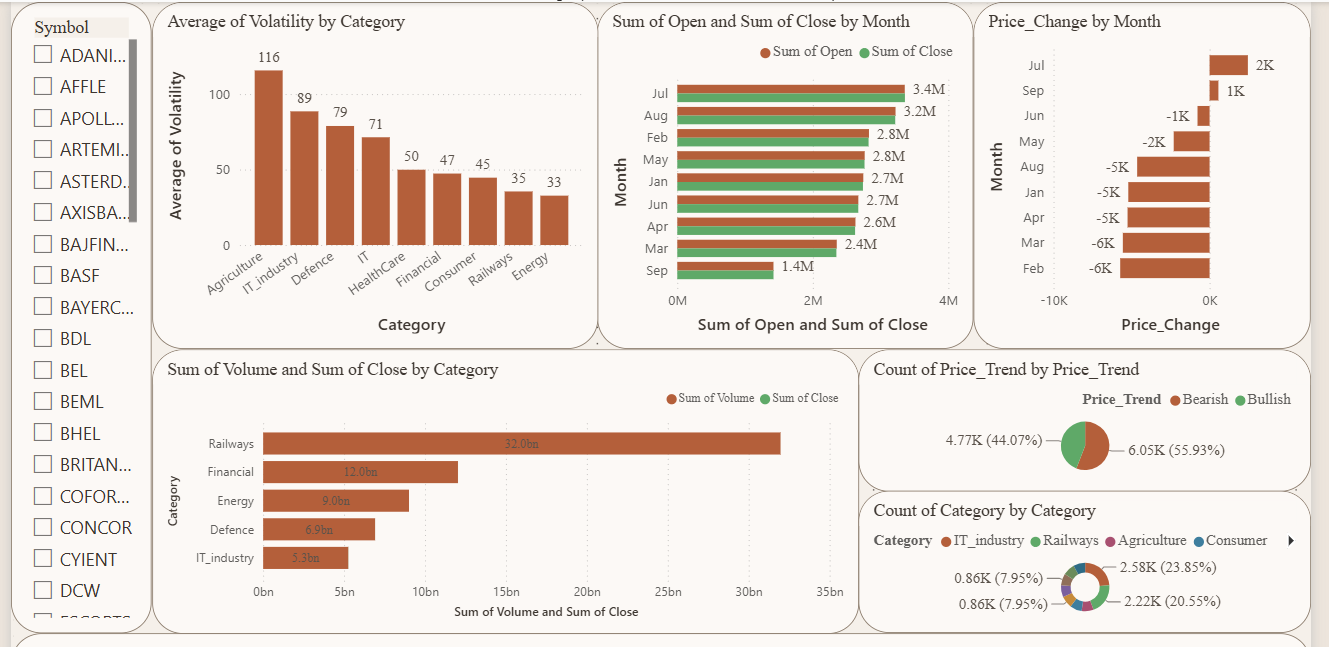

Layout of this report page (visuals, bound fields, positions):
{"tool":"powerbi","page":{"name":"Page 4","canvas":[1280,720],"ordinal":3},"visuals":[{"type":"barChart","fields":{"Category":["Stockslive.Category"],"Y":["Sum(Stockslive.Volume)","Sum(Stockslive.Close)"]},"box":[138.6,341.7,695.7,279.9],"z":0},{"type":"clusteredBarChart","fields":{"Category":["Stockslive.Month"],"Y":["Sum(Stockslive.Open)","Sum(Stockslive.Close)"]},"box":[577.7,0,370.5,341.7],"z":1000},{"type":"pieChart","fields":{"Category":["Stockslive.Price_Trend"],"Y":["CountNonNull(Stockslive.Price_Trend)"]},"box":[834.3,341.7,446,140],"z":2000},{"type":"barChart","fields":{"Y":["Stockslive.Price_Change"],"Category":["Stockslive.Month"]},"box":[948.2,0,332.1,341.7],"z":3000},{"type":"donutChart","fields":{"Category":["Stockslive.Category"],"Y":["CountNonNull(Stockslive.Category)"]},"box":[834.3,481.6,446,140],"z":4000},{"type":"columnChart","fields":{"Category":["Stockslive.Category"],"Y":["Avg(Stockslive.Volatility)"]},"box":[138.6,0,439.1,341.7],"z":5000},{"type":"slicer","fields":{"Values":["Stockslive.Date"]},"box":[0,621.6,1280.3,98.8],"z":6000},{"type":"slicer","fields":{"Values":["Stockslive.Symbol"]},"box":[0,0,138.6,621.6],"z":7000}]}

Visuals, with their boxes on the page's 1280x720 design canvas (x1, y1, x2, y2). These are canvas units, not pixel positions in the 1329x647 screenshot, which may show the page scaled, cropped or inside an application window:
barChart - Stockslive.Category x Sum(Stockslive.Volume): region(139, 342, 834, 622)
clusteredBarChart - Stockslive.Month x Sum(Stockslive.Open): region(578, 0, 948, 342)
pieChart - Stockslive.Price_Trend x CountNonNull(Stockslive.Price_Trend): region(834, 342, 1280, 482)
barChart - Stockslive.Price_Change x Stockslive.Month: region(948, 0, 1280, 342)
donutChart - Stockslive.Category x CountNonNull(Stockslive.Category): region(834, 482, 1280, 622)
columnChart - Stockslive.Category x Avg(Stockslive.Volatility): region(139, 0, 578, 342)
slicer - Stockslive.Date: region(0, 622, 1280, 720)
slicer - Stockslive.Symbol: region(0, 0, 139, 622)
